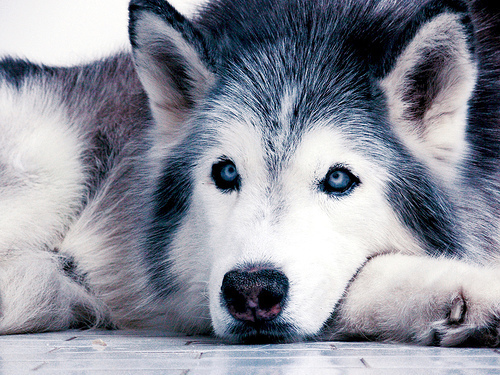dog: (0, 0, 498, 346)
